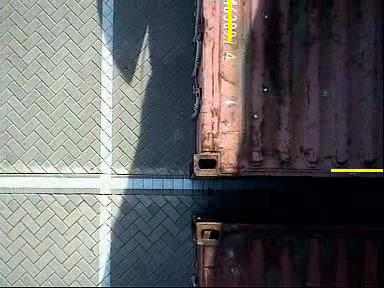groundmarker_2: (150, 160, 181, 227), (150, 17, 180, 83)
